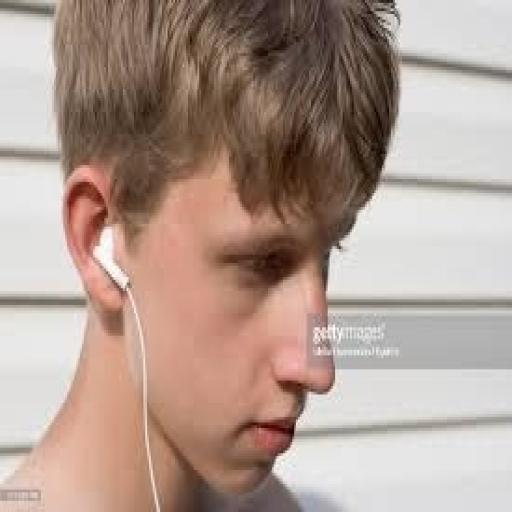listening_to_music: (0, 0, 404, 509)
